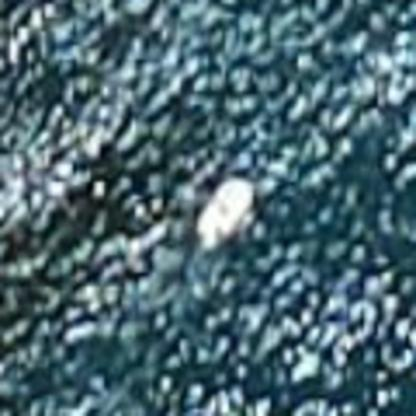ship: (185, 173, 260, 254)
